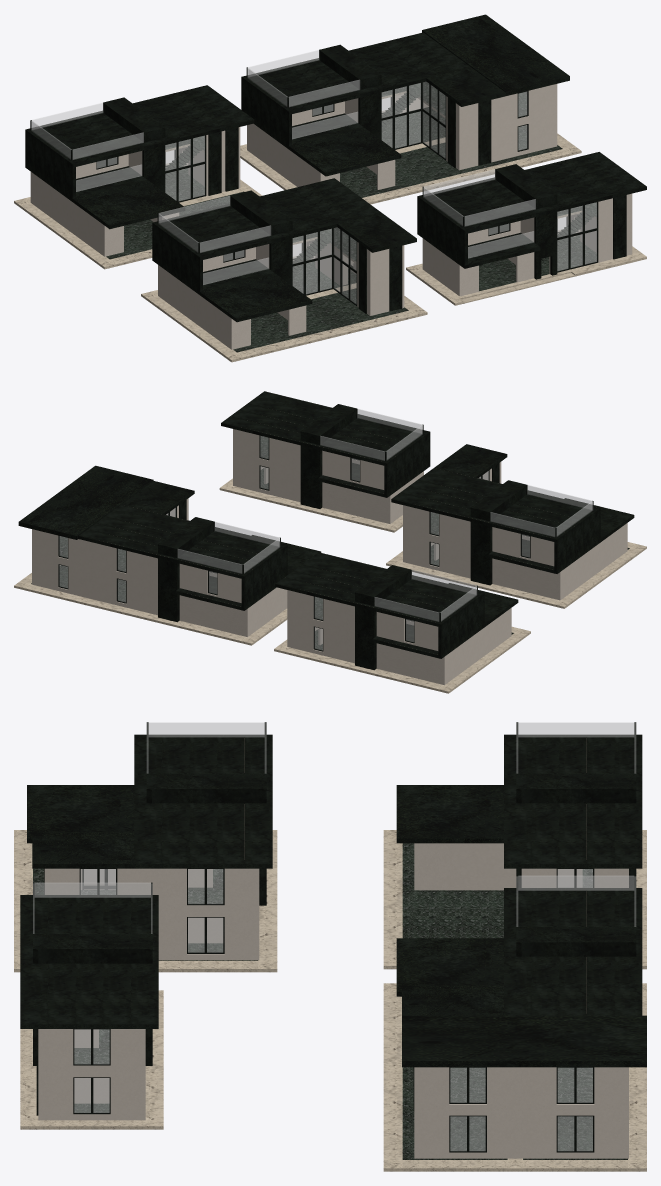
File: houses_lowpoly.glb
The picture shows the model from 3 angles, top to bottom: view 1: azimuth 30°, elevation 25°; view 2: azimuth 150°, elevation 25°; view 3: azimuth 270°, elevation 25°; orthographic projection. The views are drawn at different scales.
Parts seen in each view (by area): view 1: 4_House_0, 3_House_0, 2_House_0, 1_House_0, 4_Glass_0, 3_Glass_0, 1_Glass_0, 2_Glass_0; view 2: 4_House_0, 3_House_0, 2_House_0, 1_House_0, 4_Glass_0, 3_Glass_0, 2_Glass_0, 1_Glass_0; view 3: 4_House_0, 3_House_0, 2_House_0, 1_House_0, 4_Glass_0, 3_Glass_0, 1_Glass_0, 2_Glass_0.
Part boxes in pixels (x1=…): 4_House_0: x1=240, y1=14, x2=581, y2=204; 3_House_0: x1=141, y1=178, x2=427, y2=362; 2_House_0: x1=14, y1=85, x2=262, y2=269; 1_House_0: x1=406, y1=152, x2=646, y2=305; 4_Glass_0: x1=247, y1=50, x2=527, y2=158; 3_Glass_0: x1=158, y1=196, x2=356, y2=304; 1_Glass_0: x1=423, y1=169, x2=596, y2=270; 2_Glass_0: x1=31, y1=102, x2=204, y2=200; 4_House_0: x1=14, y1=465, x2=321, y2=645; 3_House_0: x1=386, y1=444, x2=646, y2=608; 2_House_0: x1=274, y1=552, x2=530, y2=693; 1_House_0: x1=219, y1=391, x2=430, y2=532; 4_Glass_0: x1=59, y1=508, x2=279, y2=602; 3_Glass_0: x1=430, y1=471, x2=592, y2=565; 2_Glass_0: x1=314, y1=570, x2=476, y2=650; 1_Glass_0: x1=260, y1=409, x2=422, y2=489; 4_House_0: x1=383, y1=875, x2=646, y2=1171; 3_House_0: x1=14, y1=722, x2=277, y2=972; 2_House_0: x1=383, y1=722, x2=646, y2=969; 1_House_0: x1=20, y1=882, x2=163, y2=1129; 4_Glass_0: x1=450, y1=875, x2=635, y2=1151; 3_Glass_0: x1=80, y1=722, x2=266, y2=952; 1_Glass_0: x1=33, y1=882, x2=152, y2=1112; 2_Glass_0: x1=516, y1=722, x2=635, y2=887.
Bounding box in the file's own units: 67.15 × 11.11 × 53.08.
2 materials, 1 textured.
